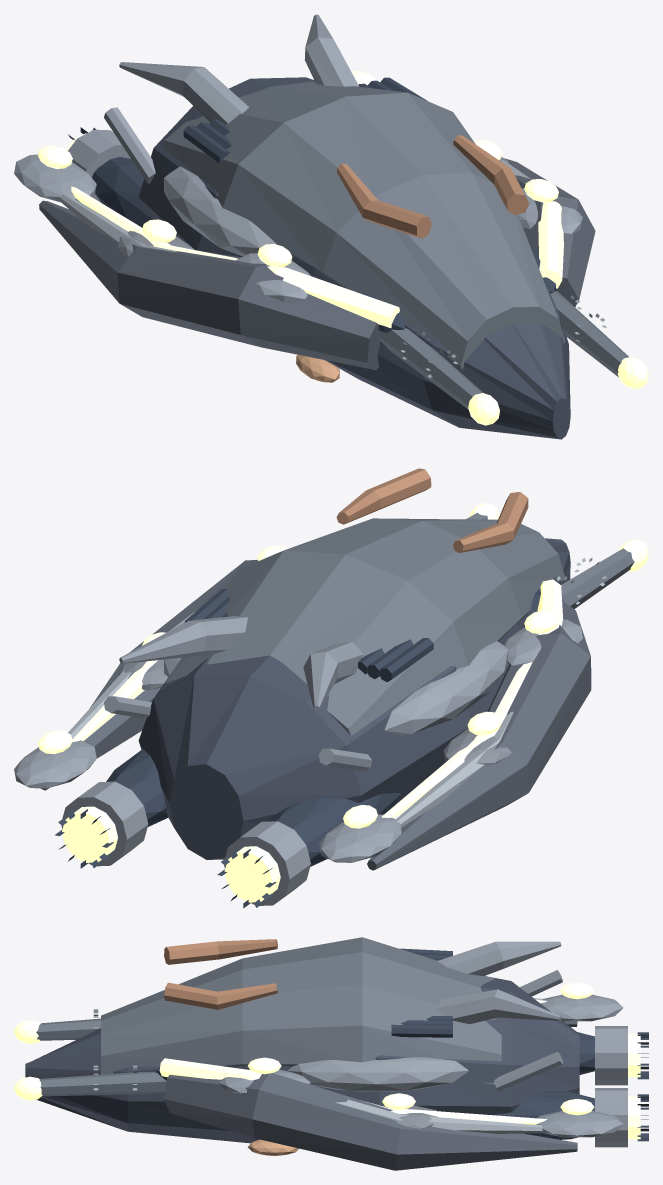
Rendered from npc_streuner.glb.
3 renders of one model, top to bottom at view 1: azimuth 30°, elevation 25°; view 2: azimuth 150°, elevation 25°; view 3: azimuth 270°, elevation 25°, orthographic. The views are drawn at different scales.
Parts seen in each view (by area): view 1: upper_armor_scar, armored_scythe_-1, keel_pressure_hull, heavy_shield_pad_-1, energy_etched_rail_-1, predator_dorsal_fang_-1, armored_scythe_1, long_plasma_cannon_-1, engine_armor_-1, pirate_crest_-1, scythe_plate_-1_2, long_plasma_cannon_1 (+17 smaller); view 2: upper_armor_scar, keel_pressure_hull, armored_scythe_-1, heavy_shield_pad_-1, predator_dorsal_fang_1, engine_armor_-1, exhaust_coil_-1, exhaust_coil_1, energy_etched_rail_-1, armored_scythe_1, scythe_plate_1_2, scythe_plate_-1_2 (+20 smaller); view 3: upper_armor_scar, armored_scythe_1, keel_pressure_hull, heavy_shield_pad_1, predator_dorsal_fang_1, long_plasma_cannon_1, predator_dorsal_fang_-1, energy_etched_rail_1, exhaust_coil_-1, pirate_crest_-1, pirate_crest_1, scythe_plate_1_2 (+20 smaller).
Boxes of the visible parts, <box> form: upper_armor_scar: <box>162,81,565,370</box>; armored_scythe_-1: <box>39,200,380,370</box>; keel_pressure_hull: <box>138,77,570,439</box>; heavy_shield_pad_-1: <box>164,166,276,256</box>; energy_etched_rail_-1: <box>71,186,399,328</box>; predator_dorsal_fang_-1: <box>119,62,249,123</box>; armored_scythe_1: <box>504,158,595,306</box>; long_plasma_cannon_-1: <box>379,328,482,409</box>; engine_armor_-1: <box>92,157,153,227</box>; pirate_crest_-1: <box>337,163,431,238</box>; scythe_plate_-1_2: <box>14,154,96,202</box>; long_plasma_cannon_1: <box>550,291,628,377</box>; upper_armor_scar: <box>162,518,564,735</box>; keel_pressure_hull: <box>138,538,570,859</box>; armored_scythe_-1: <box>367,600,591,870</box>; heavy_shield_pad_-1: <box>384,641,508,735</box>; predator_dorsal_fang_1: <box>119,616,247,663</box>; engine_armor_-1: <box>269,793,400,866</box>; exhaust_coil_-1: <box>224,821,310,905</box>; exhaust_coil_1: <box>61,781,148,866</box>; energy_etched_rail_-1: <box>382,579,563,818</box>; armored_scythe_1: <box>41,559,257,790</box>; scythe_plate_1_2: <box>14,740,96,788</box>; scythe_plate_-1_2: <box>319,814,401,862</box>; upper_armor_scar: <box>101,937,501,1084</box>; armored_scythe_1: <box>163,1073,577,1170</box>; keel_pressure_hull: <box>25,977,579,1143</box>; heavy_shield_pad_1: <box>287,1057,468,1091</box>; predator_dorsal_fang_1: <box>437,989,561,1024</box>; long_plasma_cannon_1: <box>39,1072,166,1096</box>; predator_dorsal_fang_-1: <box>437,941,561,976</box>; energy_etched_rail_1: <box>159,1058,547,1124</box>; exhaust_coil_-1: <box>595,1026,627,1085</box>; pirate_crest_-1: <box>164,939,277,964</box>; pirate_crest_1: <box>164,982,277,1009</box>; scythe_plate_1_2: <box>536,1111,623,1137</box>.
Size of the model in its own units: 1.79 by 0.9744 by 3.06.
